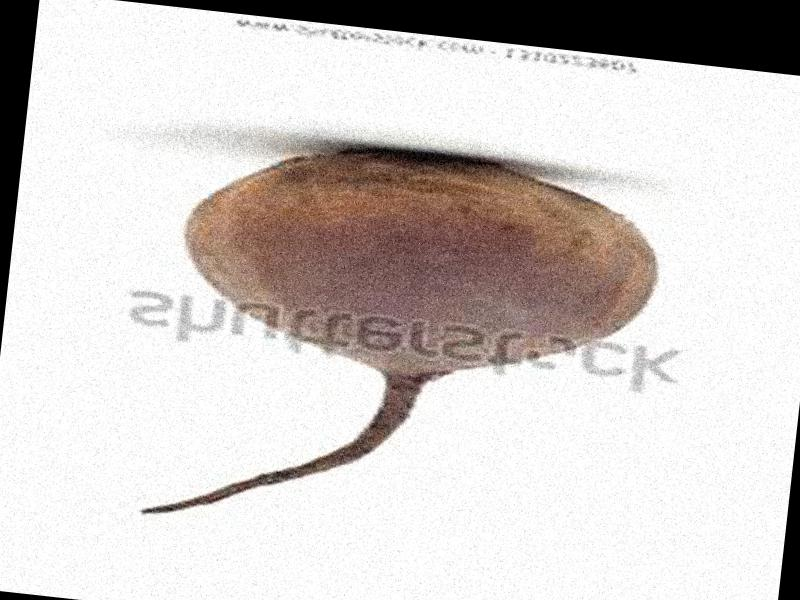Beet: (142, 125, 673, 568)
